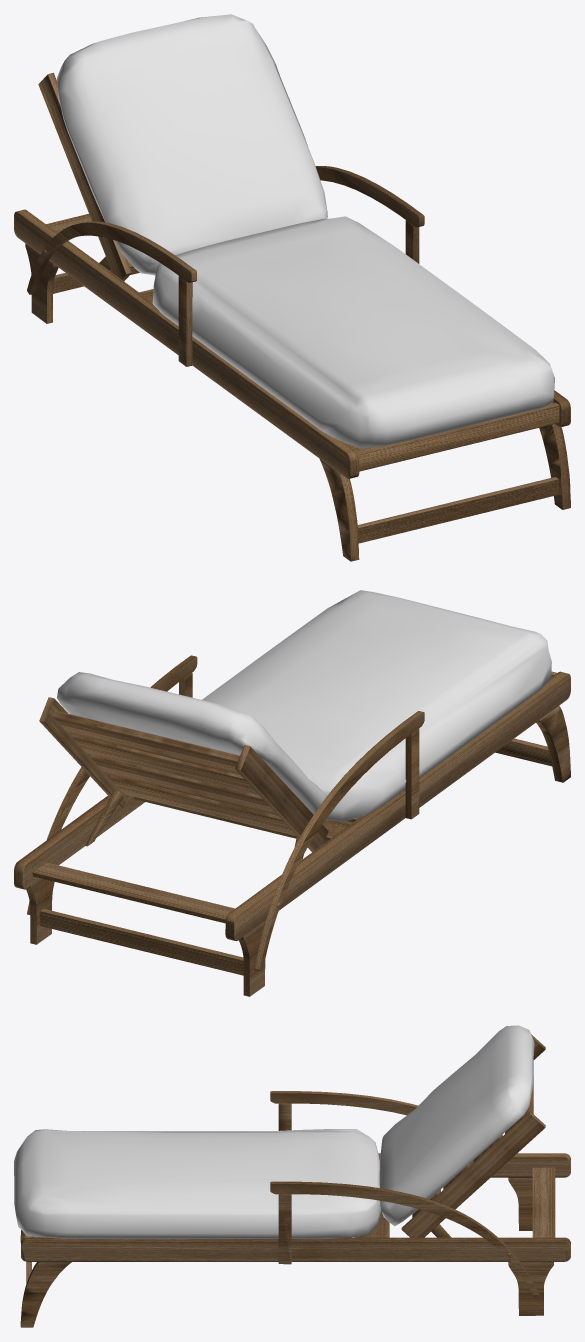
Rendered from lounger.med.glb.
3 views of the same model, one above another, from view 1: azimuth 30°, elevation 25°; view 2: azimuth 150°, elevation 25°; view 3: azimuth 270°, elevation 25° (orthographic). The views are drawn at different scales.
Visible parts, largest first — view 1: cushion, frame; view 2: cushion, frame; view 3: cushion, frame.
Boxes of the visible parts, x1,y1,x2,y2 form: cushion: (57,14,554,448); frame: (14,72,570,561); cushion: (57,590,551,821); frame: (14,655,570,996); cushion: (14,1025,534,1238); frame: (20,1034,570,1327).
Size of the model in its own units: 0.6944 by 0.8 by 1.74.
2 materials, 2 textured.
